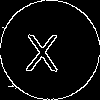X: (25, 25, 59, 71)
